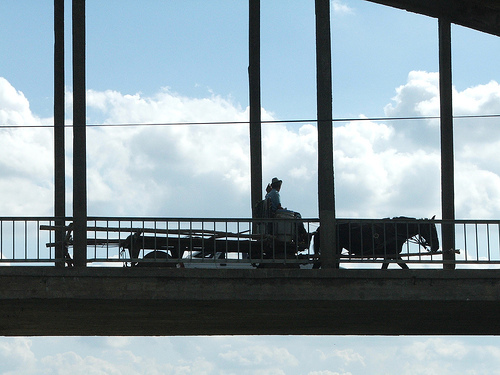horse: (310, 213, 440, 274)
